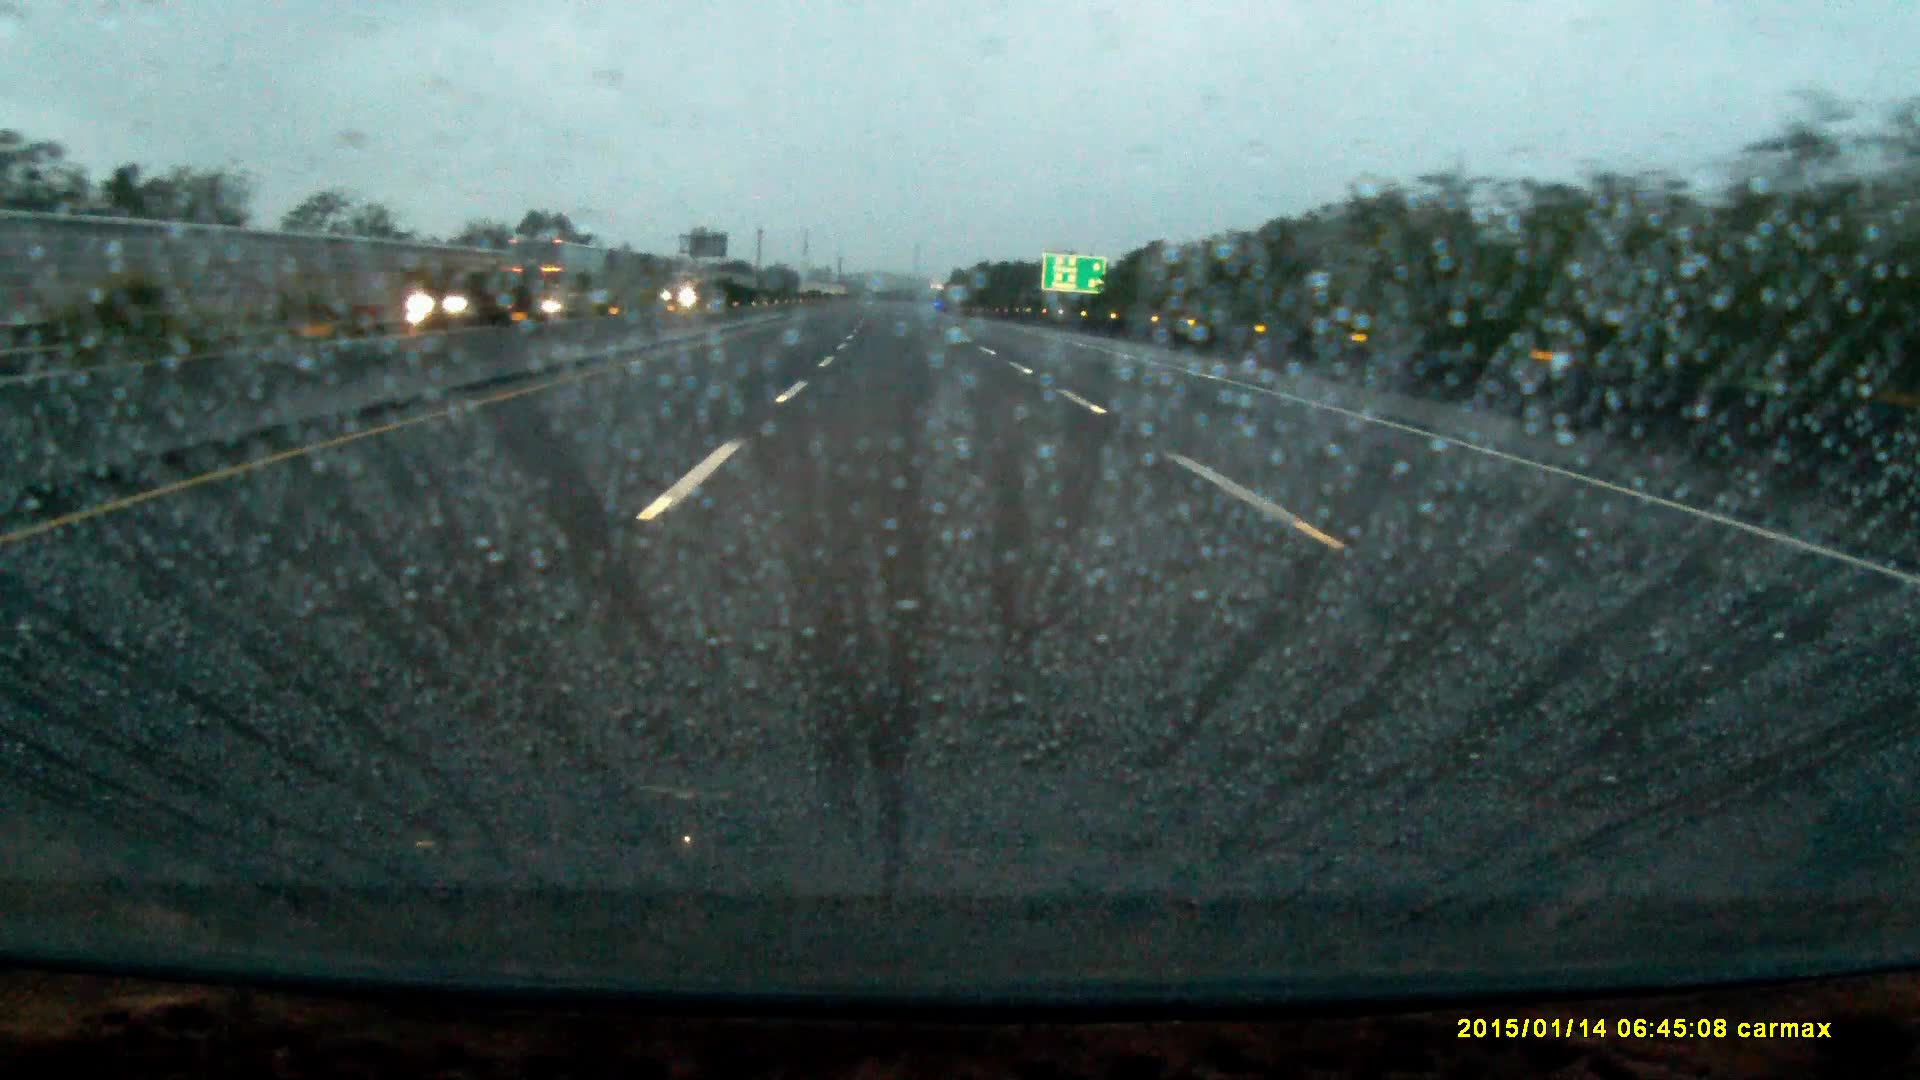vehicle: (506, 239, 609, 320), (407, 284, 492, 328)
